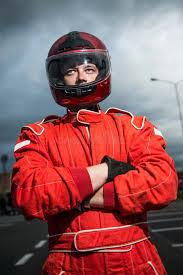Helmet: (45, 29, 110, 110)
